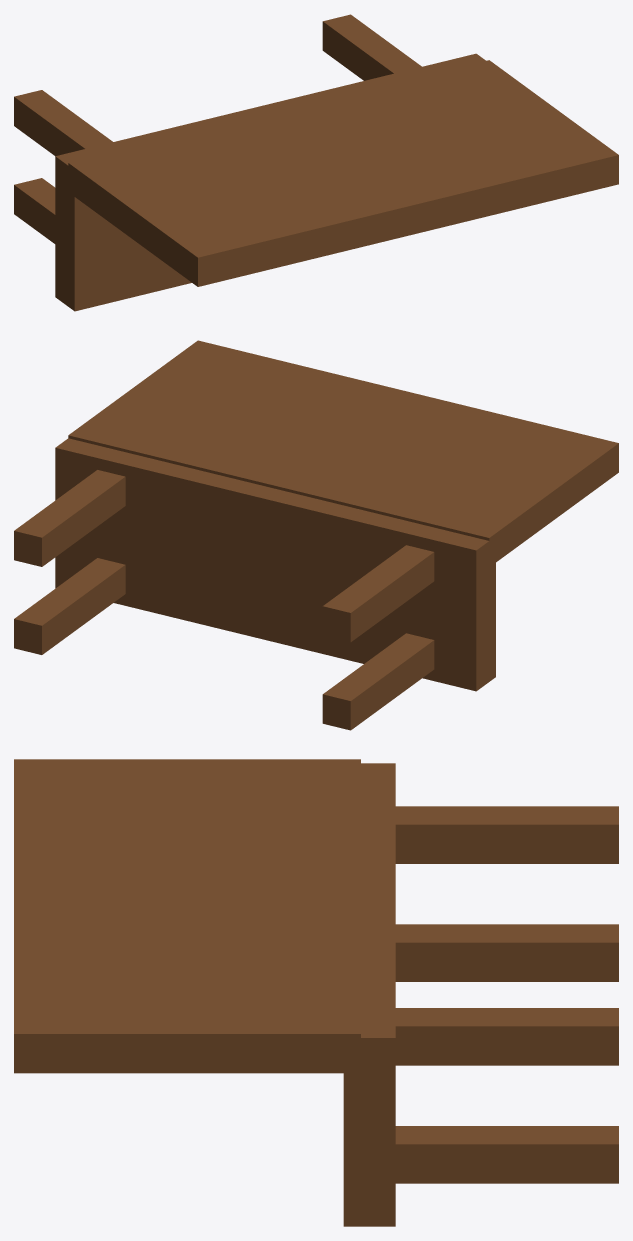
The model's file is SM_RivGardenBench.obj.
3 renders of one model, top to bottom at view 1: azimuth 30°, elevation 25°; view 2: azimuth 150°, elevation 25°; view 3: azimuth 270°, elevation 25°, orthographic. The views are drawn at different scales.
Parts seen in each view (by area): view 1: SM_RivGardenBench; view 2: SM_RivGardenBench; view 3: SM_RivGardenBench.
Part boxes in pixels (box(x1,y1,x2,y2)): SM_RivGardenBench: box(14, 14, 618, 311); SM_RivGardenBench: box(14, 340, 618, 730); SM_RivGardenBench: box(14, 759, 618, 1226).
Size of the model in its own units: 150 by 49 by 140.
